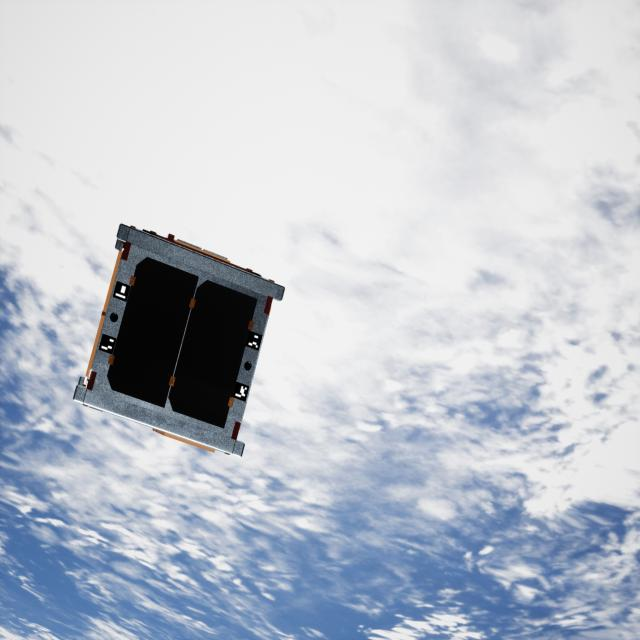satellite: (69, 220, 293, 461)
